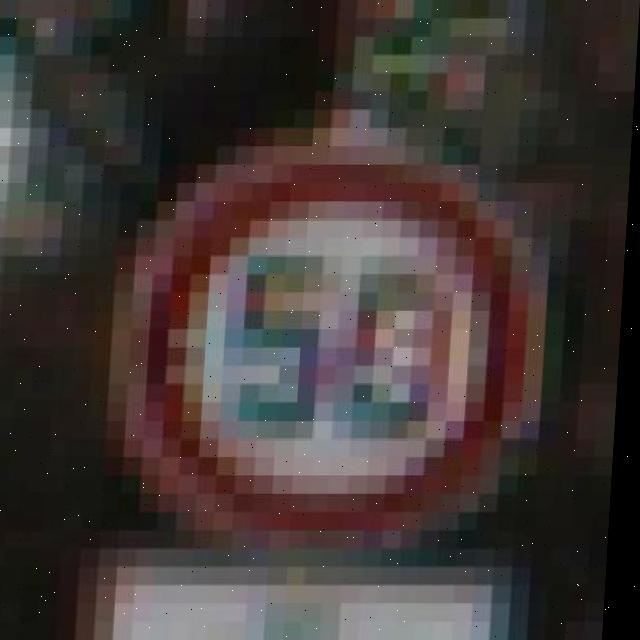Speed limit 50: (114, 143, 562, 544)
